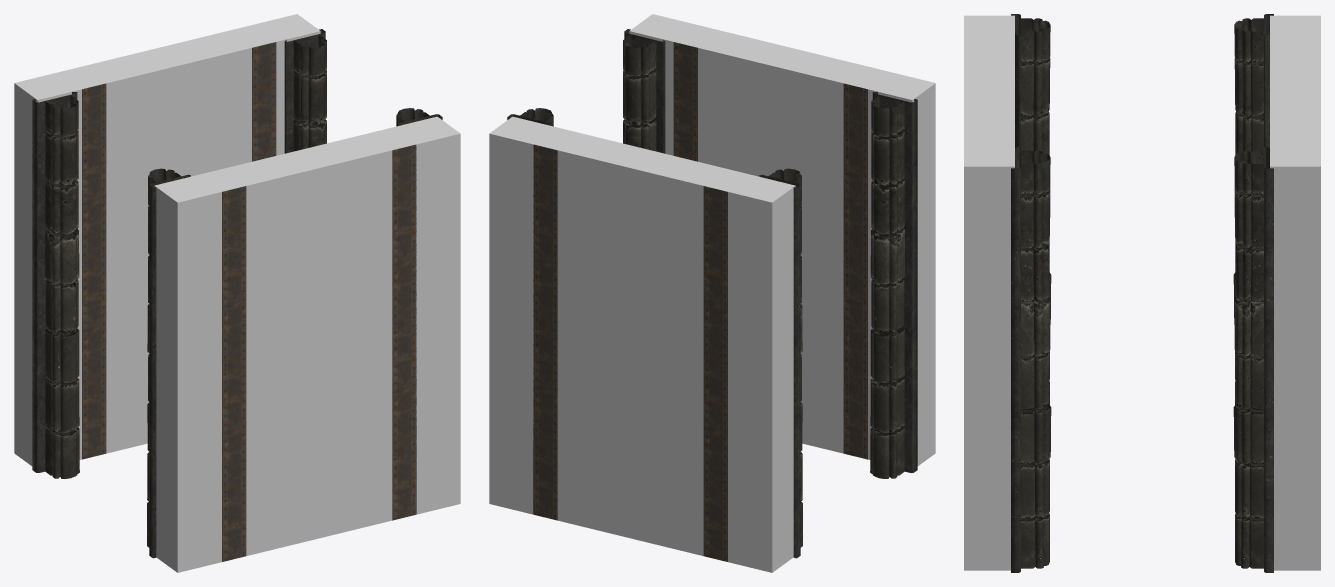
The picture shows the model from 3 angles, left to right: view 1: azimuth 30°, elevation 25°; view 2: azimuth 150°, elevation 25°; view 3: azimuth 270°, elevation 25°; orthographic projection. The views are drawn at different scales.
Parts seen in each view (by area): view 1: SM_Dowdun_Walkway_Arch_Riser_01_LOD0; view 2: SM_Dowdun_Walkway_Arch_Riser_01_LOD0; view 3: SM_Dowdun_Walkway_Arch_Riser_01_LOD0.
Boxes of the visible parts, x1,y1,x2,y2 form: SM_Dowdun_Walkway_Arch_Riser_01_LOD0: (14,14,460,572); SM_Dowdun_Walkway_Arch_Riser_01_LOD0: (489,14,935,572); SM_Dowdun_Walkway_Arch_Riser_01_LOD0: (964,14,1320,572).
Size of the model in its own units: 8.18 by 10.01 by 8.
4 materials, 3 textured.
